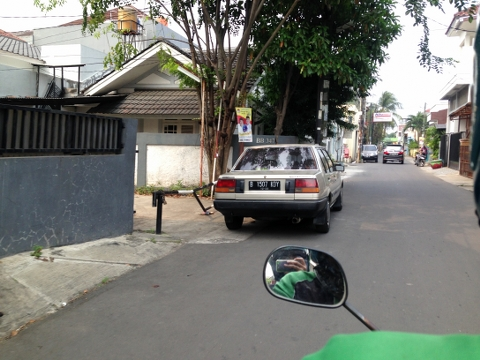mobil: (213, 144, 345, 233), (383, 145, 406, 164), (361, 144, 379, 163)
